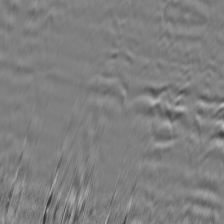cavities: (10, 57, 197, 183)
